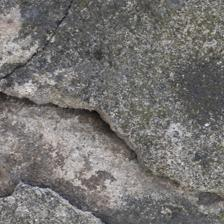Crack: (59, 19, 131, 203), (55, 53, 149, 96), (12, 75, 63, 115)
